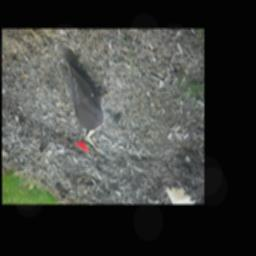Woodpecker: (59, 48, 114, 158)
